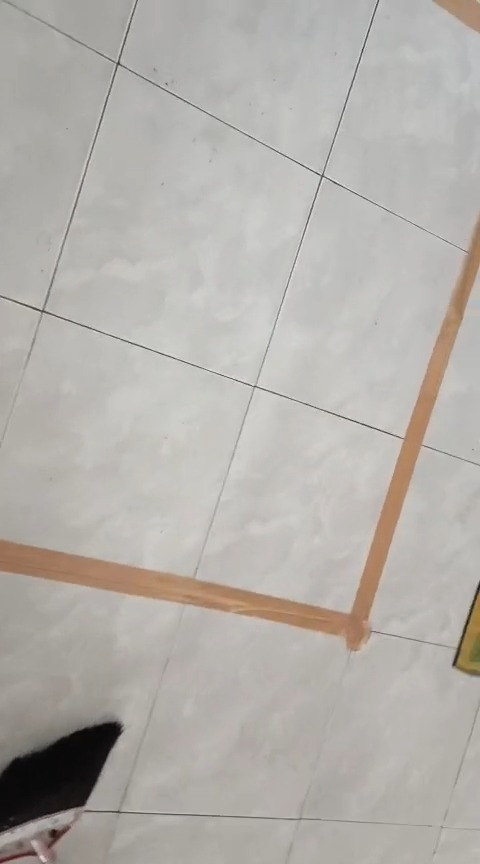floor marking: (0, 221, 479, 649)
